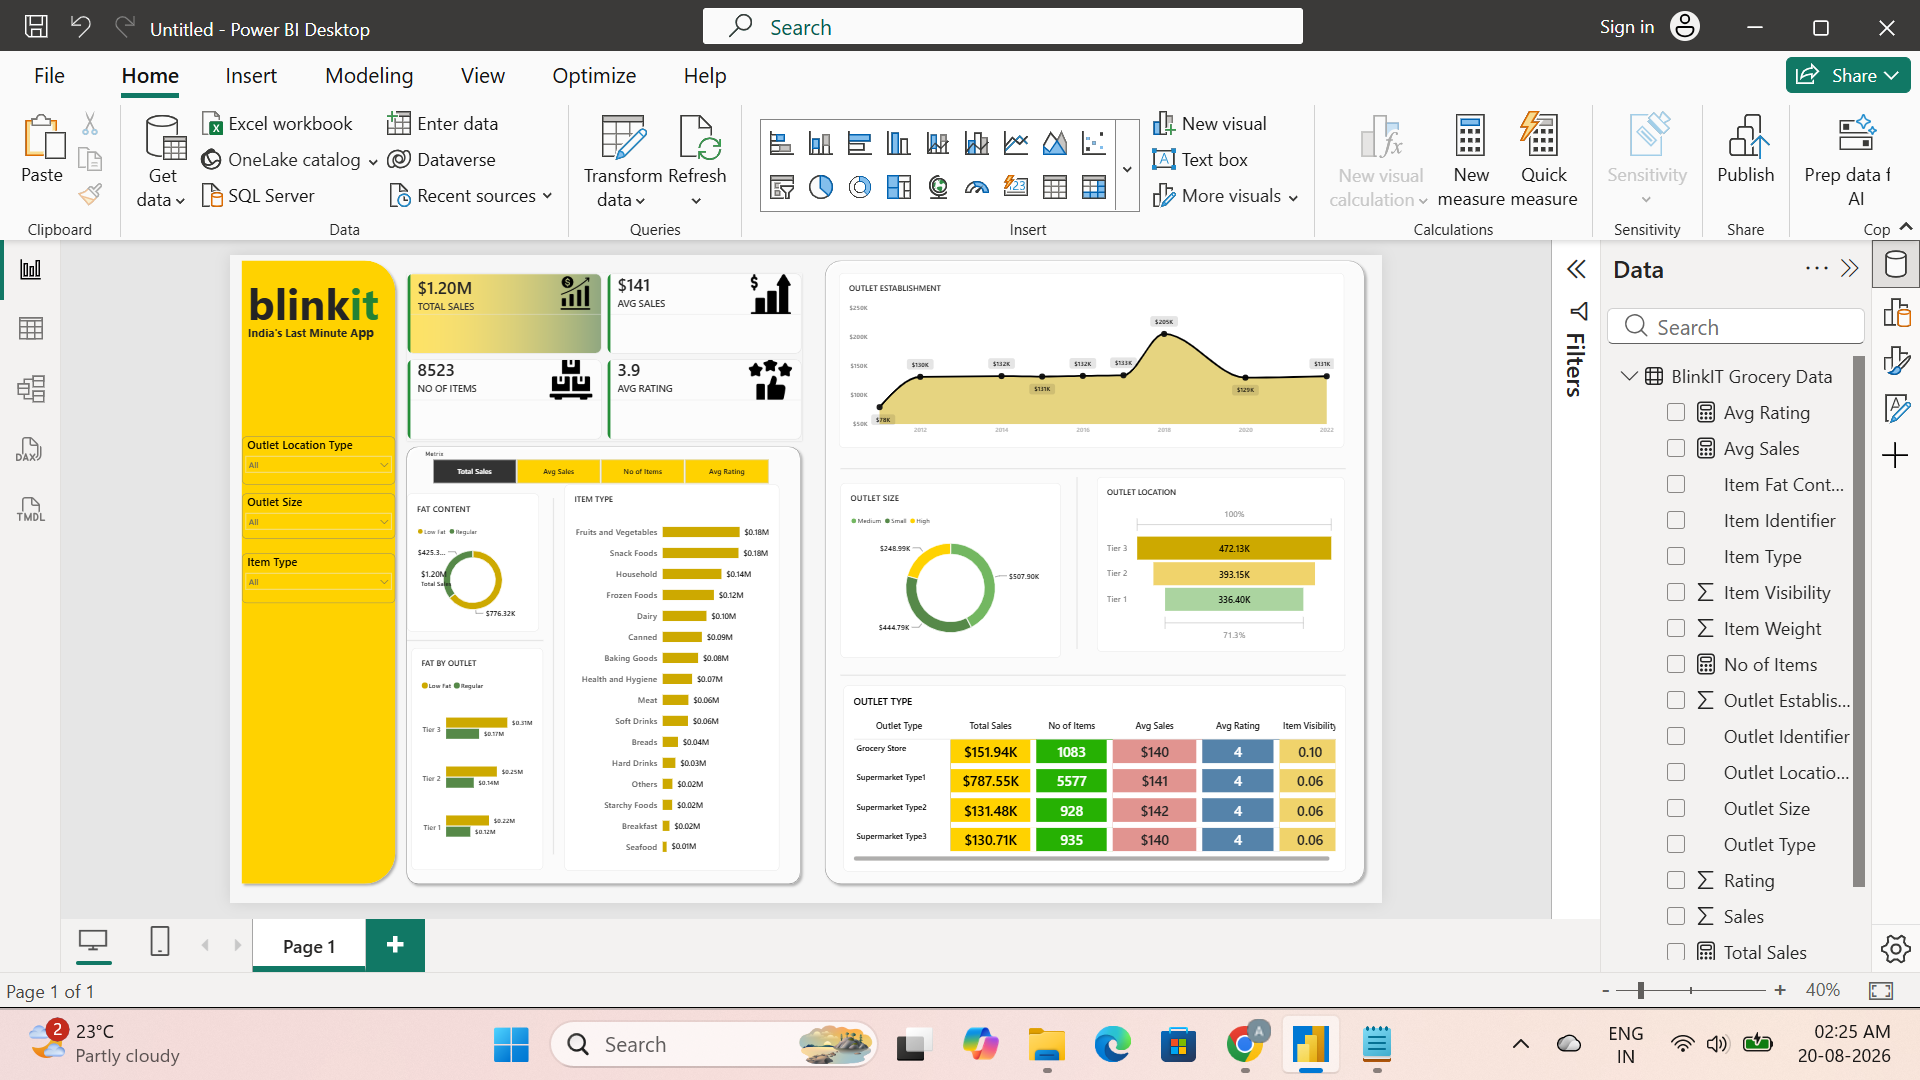

This screenshot's page, from the dashboard's own definition file:
{"tool":"powerbi","page":{"name":"Page 1","canvas":[1920,1080],"ordinal":0},"visuals":[{"type":"shape","box":[9.5,0,274.4,1057],"z":0},{"type":"textbox","box":[30,30,255,100],"z":1000},{"type":"textbox","box":[30,112.5,255,57.5],"z":2000},{"type":"cardVisual","fields":{"Data":["BlinkIT Grocery Data.Total Sales","BlinkIT Grocery Data.Avg Sales","BlinkIT Grocery Data.No of Items","BlinkIT Grocery Data.Avg Rating"]},"box":[295.9,31,658.5,279.2],"z":3000},{"type":"shape","box":[285,310,675,747.5],"z":4000},{"type":"donutChart","title":"FAT CONTENT","fields":{"Category":["BlinkIT Grocery Data.Item Fat Content"],"Y":["BlinkIT Grocery Data.Total Sales"]},"box":[295.9,398.4,220,230],"z":5000},{"type":"slicer","fields":{"Values":["Metrix.Metrix"]},"box":[317.3,324.5,598.9,57.3],"z":6000},{"type":"cardVisual","fields":{"Data":["BlinkIT Grocery Data.Total Sales"]},"box":[303,496.3,105,83.5],"z":7000},{"type":"clusteredBarChart","title":"FAT BY OUTLET","fields":{"Category":["BlinkIT Grocery Data.Outlet Location Type"],"Series":["BlinkIT Grocery Data.Item Fat Content"],"Y":["BlinkIT Grocery Data.Total Sales"]},"box":[303,656.1,219.5,369.8],"z":8000},{"type":"shape","box":[295,627.5,227.5,30],"z":9000},{"type":"shape","box":[493.9,405.6,88.3,594.1],"z":10000},{"type":"barChart","title":"ITEM TYPE","fields":{"Category":["BlinkIT Grocery Data.Item Type"],"Y":["BlinkIT Grocery Data.Total Sales"]},"box":[558.3,381.7,357.9,644.2],"z":11000},{"type":"shape","box":[982.5,0,917.5,1057.5],"z":12000},{"type":"lineChart","title":"OUTLET ESTABLISHMENT","fields":{"Category":["BlinkIT Grocery Data.Outlet Establishment Year"],"Y":["BlinkIT Grocery Data.Total Sales"]},"box":[1015,30,842.2,291.1],"z":13000},{"type":"shape","box":[1017.5,352.5,842.2,7.2],"z":14000},{"type":"donutChart","title":"OUTLET SIZE","fields":{"Category":["BlinkIT Grocery Data.Outlet Size"],"Y":["BlinkIT Grocery Data.Total Sales"]},"box":[1017.5,380,367.4,291.1],"z":15000},{"type":"shape","box":[1395,370,33.4,286.3],"z":16000},{"type":"funnel","title":"OUTLET LOCATION","fields":{"Category":["BlinkIT Grocery Data.Outlet Location Type"],"Y":["Sum(BlinkIT Grocery Data.Sales)"]},"box":[1445,370,412.8,291.1],"z":17000},{"type":"shape","box":[1017.5,682.5,842.2,35.8],"z":18000},{"type":"pivotTable","title":"OUTLET TYPE","fields":{"Rows":["BlinkIT Grocery Data.Outlet Type"],"Values":["BlinkIT Grocery Data.Total Sales","BlinkIT Grocery Data.No of Items","BlinkIT Grocery Data.Avg Sales","BlinkIT Grocery Data.Avg Rating","Avg(BlinkIT Grocery Data.Item Visibility)"]},"box":[1022.5,717.5,837.5,310],"z":19000},{"type":"slicer","fields":{"Values":["BlinkIT Grocery Data.Outlet Location Type"]},"box":[20,302.5,255,80],"z":19001},{"type":"slicer","fields":{"Values":["BlinkIT Grocery Data.Outlet Size"]},"box":[20,397.5,255,75],"z":19002},{"type":"slicer","fields":{"Values":["BlinkIT Grocery Data.Item Type"]},"box":[20,497.5,255,82.5],"z":19003}]}

Visuals, with their boxes on the page's 1920x1080 design canvas (x1, y1, x2, y2). These are canvas units, not pixel positions in the 1920x1080 screenshot, which may show the page scaled, cropped or inside an application window:
shape: rect(10, 0, 284, 1057)
textbox: rect(30, 30, 285, 130)
textbox: rect(30, 112, 285, 170)
cardVisual - BlinkIT Grocery Data.Total Sales x BlinkIT Grocery Data.Avg Sales: rect(296, 31, 954, 310)
shape: rect(285, 310, 960, 1058)
"FAT CONTENT" donutChart: rect(296, 398, 516, 628)
slicer - Metrix.Metrix: rect(317, 324, 916, 382)
cardVisual - BlinkIT Grocery Data.Total Sales: rect(303, 496, 408, 580)
"FAT BY OUTLET" clusteredBarChart: rect(303, 656, 522, 1026)
shape: rect(295, 628, 522, 658)
shape: rect(494, 406, 582, 1000)
"ITEM TYPE" barChart: rect(558, 382, 916, 1026)
shape: rect(982, 0, 1900, 1058)
"OUTLET ESTABLISHMENT" lineChart: rect(1015, 30, 1857, 321)
shape: rect(1018, 352, 1860, 360)
"OUTLET SIZE" donutChart: rect(1018, 380, 1385, 671)
shape: rect(1395, 370, 1428, 656)
"OUTLET LOCATION" funnel: rect(1445, 370, 1858, 661)
shape: rect(1018, 682, 1860, 718)
"OUTLET TYPE" pivotTable: rect(1022, 718, 1860, 1028)
slicer - BlinkIT Grocery Data.Outlet Location Type: rect(20, 302, 275, 382)
slicer - BlinkIT Grocery Data.Outlet Size: rect(20, 398, 275, 472)
slicer - BlinkIT Grocery Data.Item Type: rect(20, 498, 275, 580)
